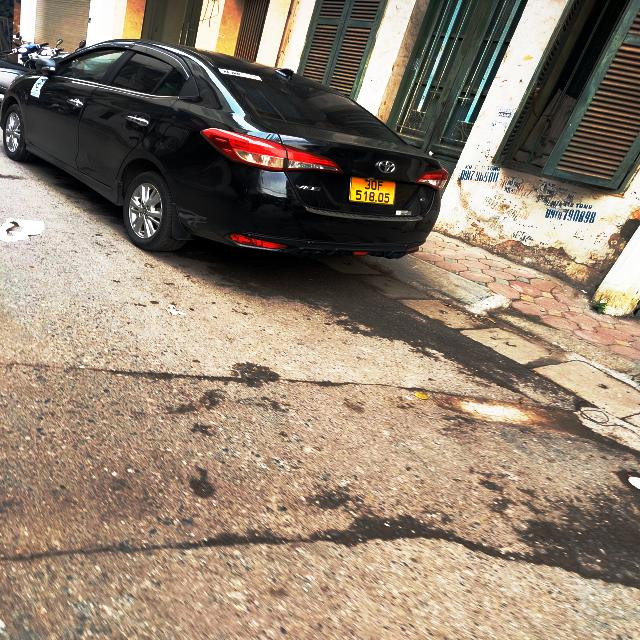license_plate: (351, 177, 397, 206)
